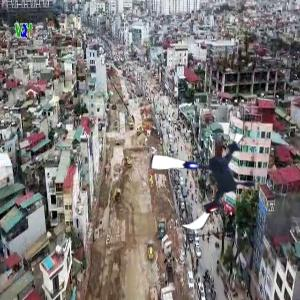drone: (149, 124, 264, 239)
